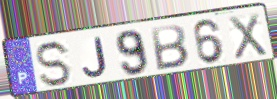6: (192, 17, 227, 66)
9: (113, 28, 151, 78)
B: (149, 23, 191, 73)
J: (81, 36, 110, 79)
S: (35, 39, 75, 89)
X: (227, 11, 270, 62)
